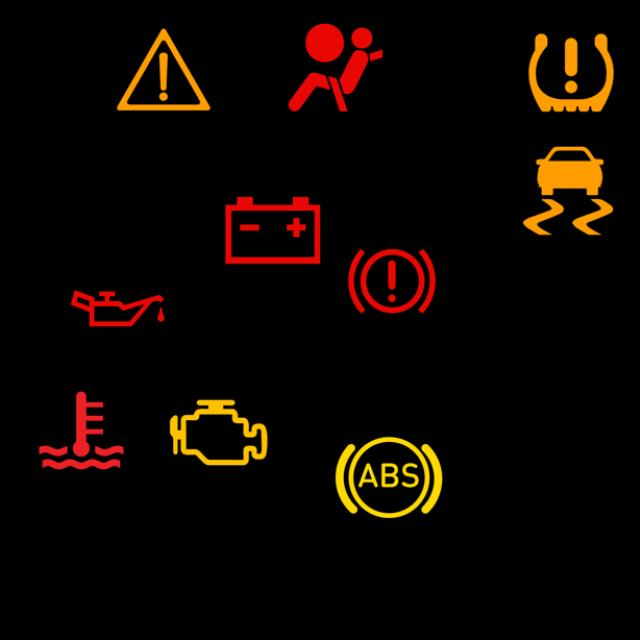Anti Lock Braking System: (330, 419, 446, 536)
Braking System Issue: (333, 223, 449, 339)
Charging System Issue: (214, 172, 330, 288)
Check Engine: (160, 374, 276, 490)
Electronic Stability Problem -ESP-: (509, 132, 625, 248)
Engine Overheating Warning Light: (23, 372, 138, 488)
Low Engine Oil Warning Light: (59, 250, 174, 366)
Low Tire Pressure Warning Light: (512, 15, 628, 131)
Master warning light: (104, 12, 220, 128)
SRS-Airbag: (276, 10, 392, 126)
